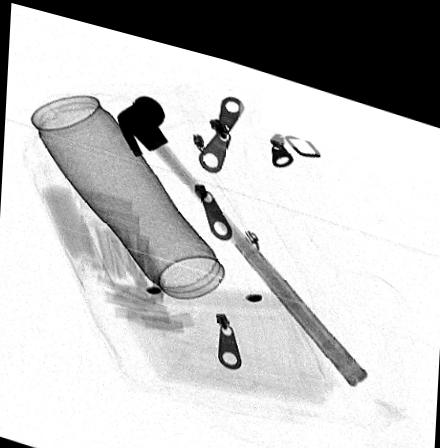Hammer: (116, 87, 368, 369)
